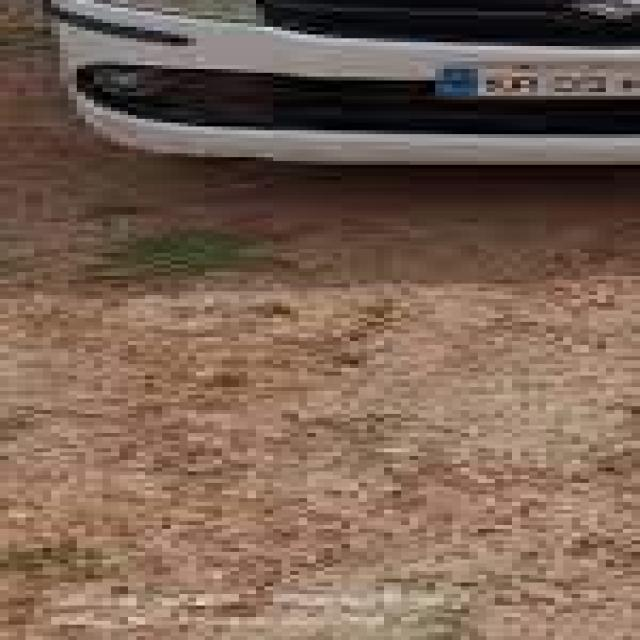car: (77, 0, 640, 172)
